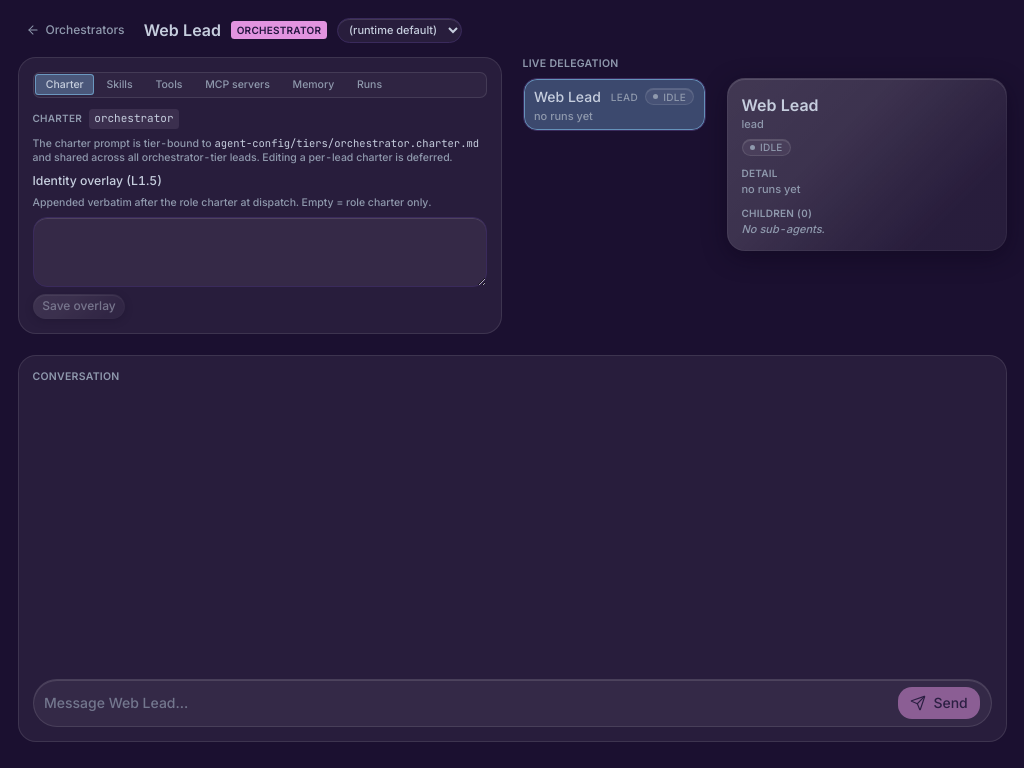
Scenario: OrchestratorDetailPage — Memory tab status SegControl › shows a status-scoped empty state
The image size is (1024, 768).
Expected: the 1st heading "Web Lead" is shown, [144, 18, 221, 42]
Click the button with test id "seg-memory" at [313, 85], box [282, 74, 345, 95]
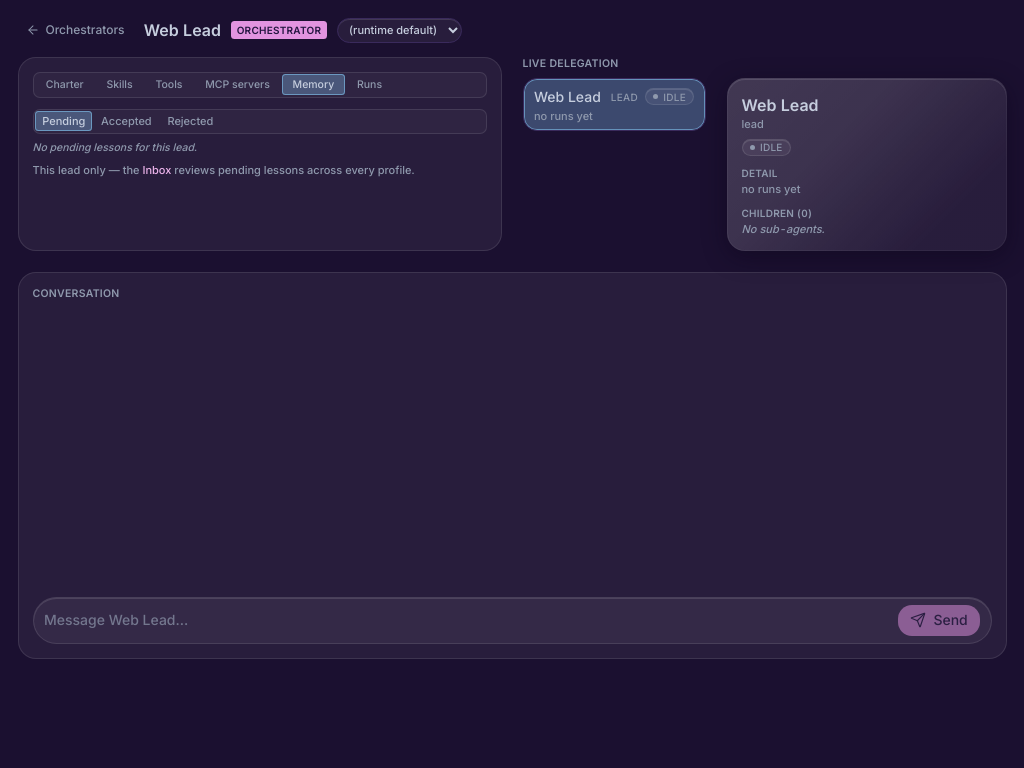
Now the text with test id "orchestrator-memory-empty" shows "pending", box [50, 141, 90, 154]
